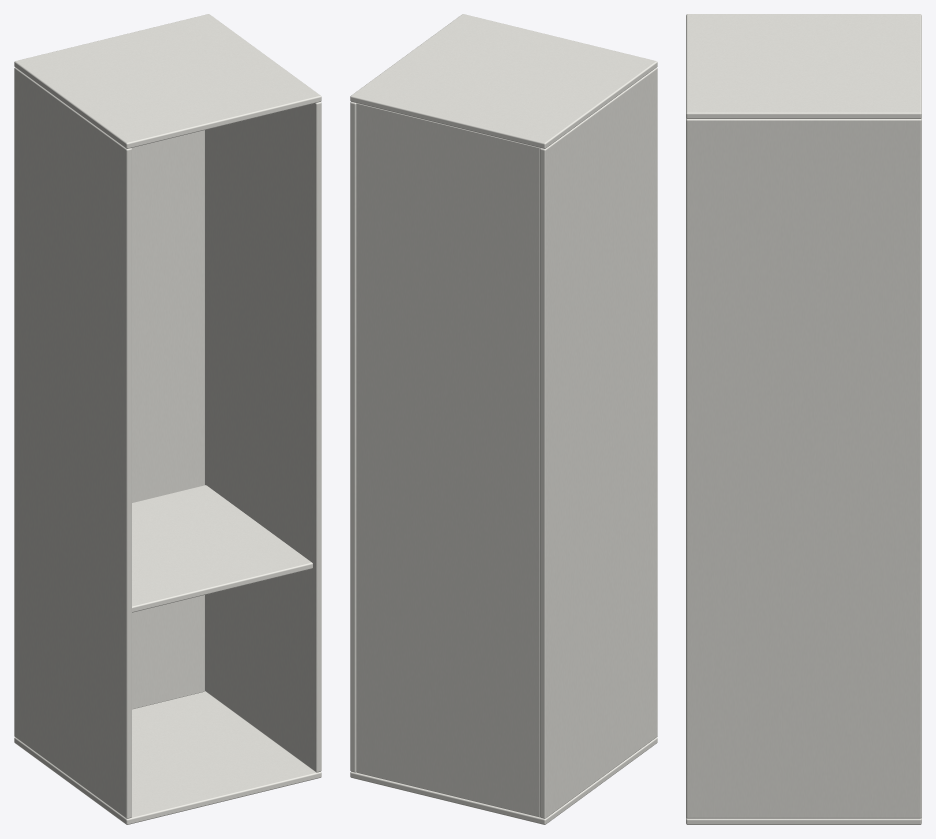
The model's file is metod-high-standard.glb.
The picture shows the model from 3 angles, left to right: view 1: azimuth 30°, elevation 25°; view 2: azimuth 150°, elevation 25°; view 3: azimuth 270°, elevation 25°; orthographic projection. The views are drawn at different scales.
Parts seen in each view (by area): view 1: METOD Tall appliance cabinet, 200 cm; view 2: METOD Tall appliance cabinet, 200 cm; view 3: METOD Tall appliance cabinet, 200 cm.
Part boxes in pixels (x1,y1,x2,y2): METOD Tall appliance cabinet, 200 cm: (14,14,321,824); METOD Tall appliance cabinet, 200 cm: (350,14,657,824); METOD Tall appliance cabinet, 200 cm: (686,14,921,824).
Size of the model in its own units: 0.6 by 2 by 0.6.
Materials: 1 (1 with a texture image).
